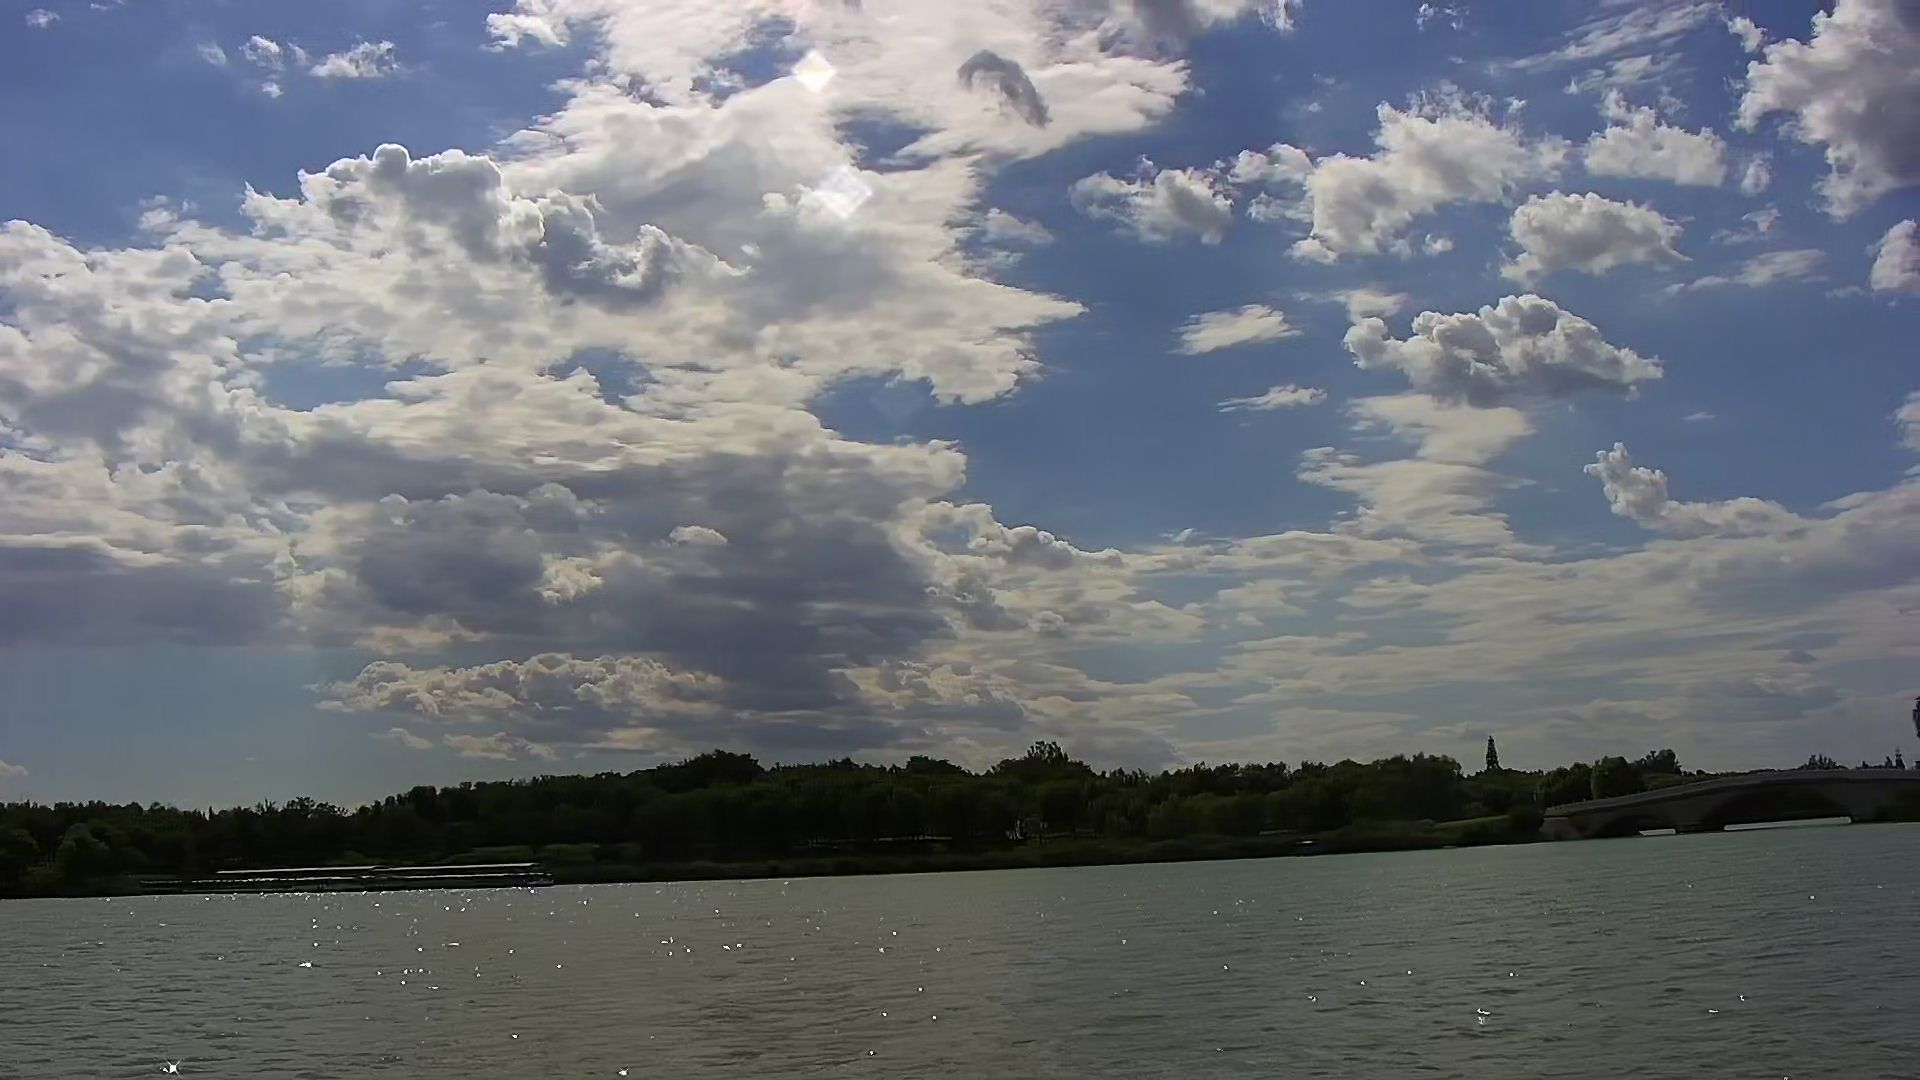bridge: (1545, 766, 1920, 843)
harbor: (210, 855, 555, 889)
